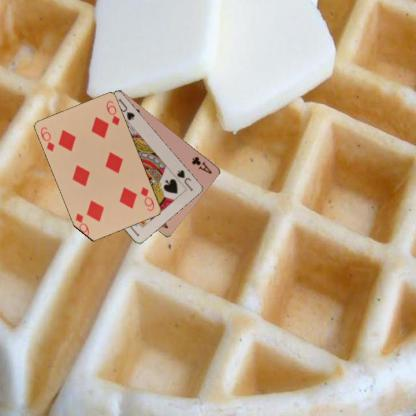6d: (138, 184, 156, 213), (38, 124, 56, 153)
Ac: (190, 154, 213, 175)
Js: (174, 167, 194, 192)
